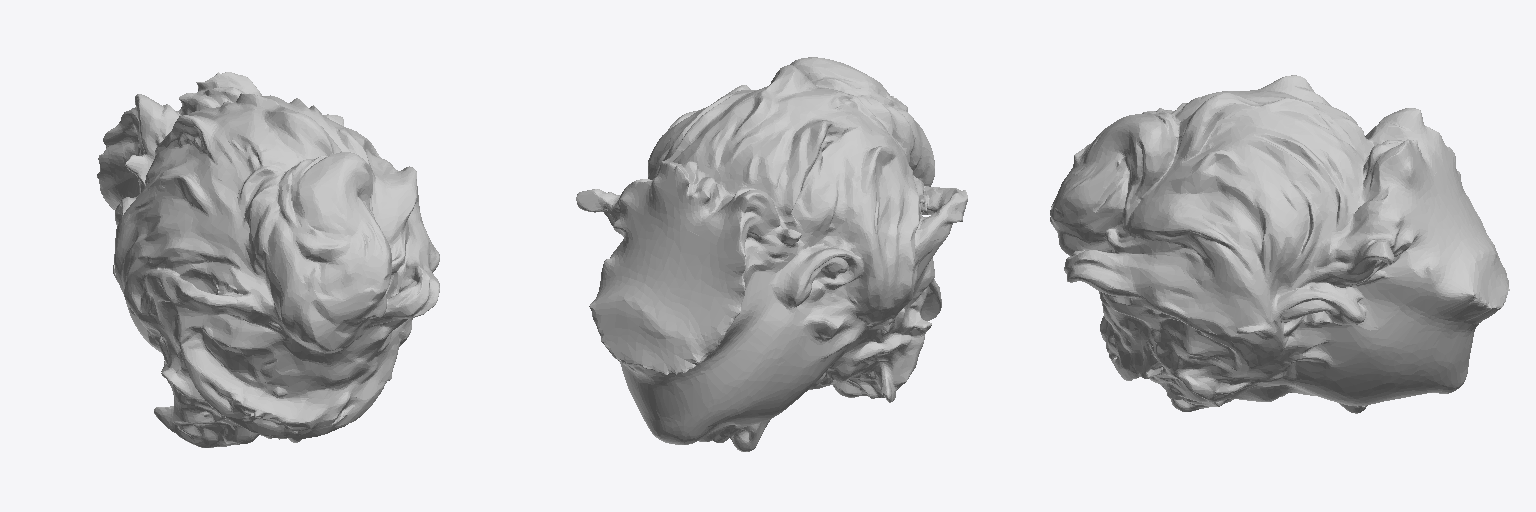
The model's file is figure_from_jotero_com.obj.
3 views of the same model, side by side, from view 1: azimuth 30°, elevation 25°; view 2: azimuth 150°, elevation 25°; view 3: azimuth 270°, elevation 25° (orthographic).
Visible parts, largest first — view 1: Geomagic; view 2: Geomagic; view 3: Geomagic.
Boxes of the visible parts, box(x1,y1,x2,y2) form: Geomagic: box(97, 72, 439, 447); Geomagic: box(576, 57, 967, 451); Geomagic: box(1050, 75, 1509, 413).
Size of the model in its own units: 198 by 222 by 283.